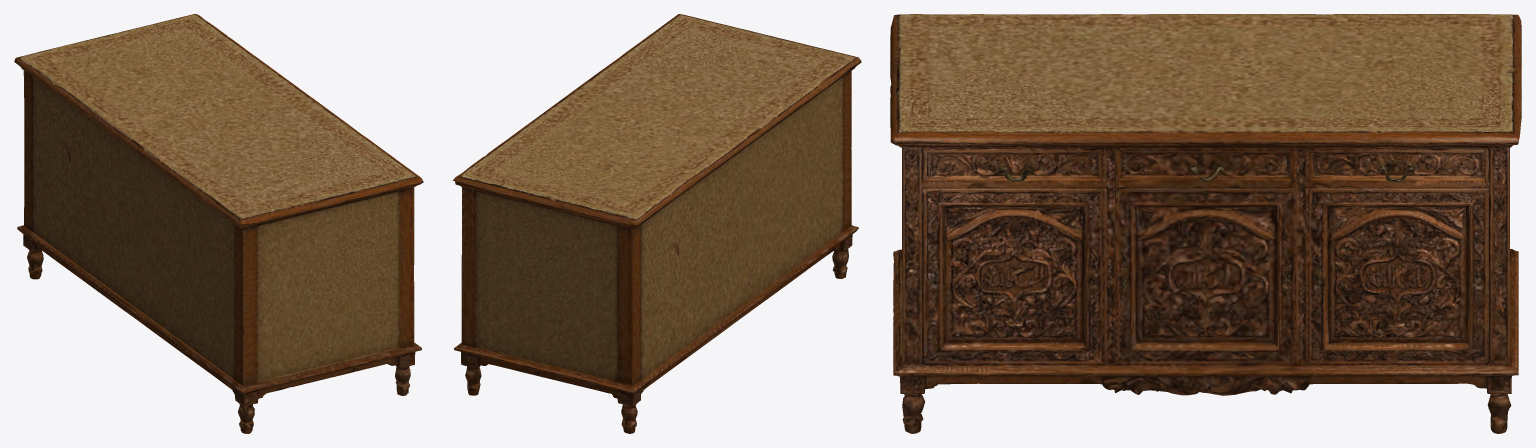
File: Buffet-Ukir-Kaligrafi-v1.glb
3 renders of one model, left to right at view 1: azimuth 30°, elevation 25°; view 2: azimuth 150°, elevation 25°; view 3: azimuth 270°, elevation 25°, orthographic. The views are drawn at different scales.
Parts seen in each view (by area): view 1: tripo_node_89ed3d1b-68b5-4fc5-ae90-1896ebe66993; view 2: tripo_node_89ed3d1b-68b5-4fc5-ae90-1896ebe66993; view 3: tripo_node_89ed3d1b-68b5-4fc5-ae90-1896ebe66993.
Part boxes in pixels (box(x1,y1,x2,y2)): tripo_node_89ed3d1b-68b5-4fc5-ae90-1896ebe66993: box(14, 14, 423, 433); tripo_node_89ed3d1b-68b5-4fc5-ae90-1896ebe66993: box(453, 14, 861, 433); tripo_node_89ed3d1b-68b5-4fc5-ae90-1896ebe66993: box(890, 14, 1521, 433).
Size of the model in its own units: 0.4738 by 0.524 by 0.9829.
Materials: 1 (1 with a texture image).
